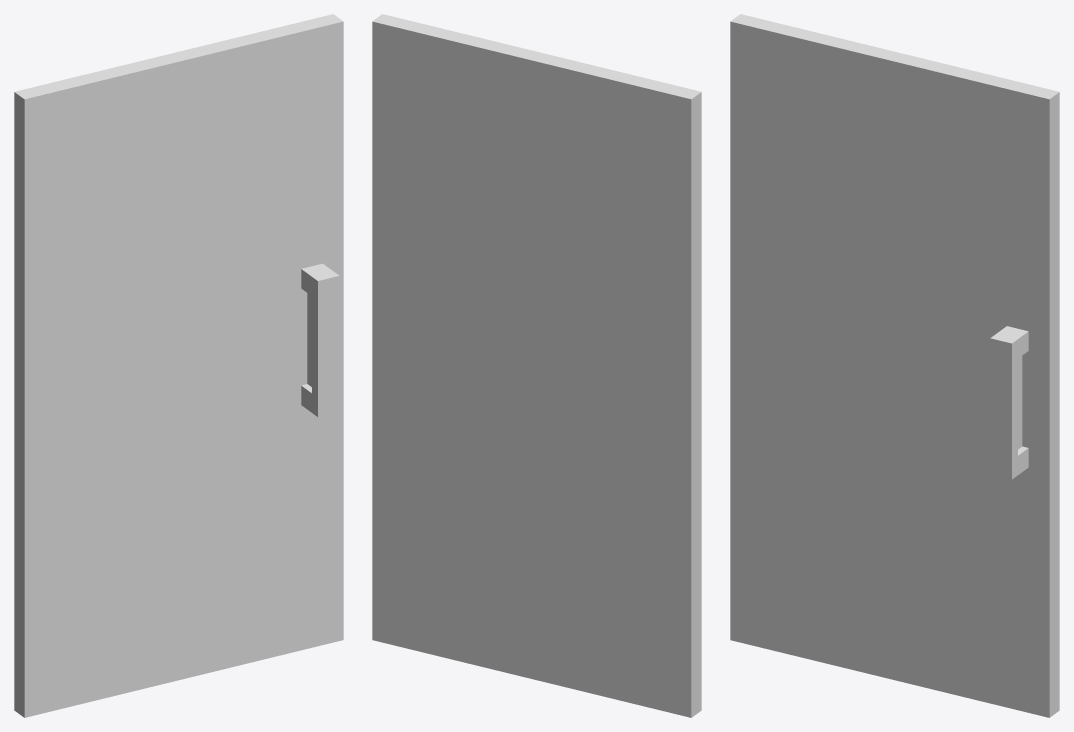
The model's file is Itr_Shelf1_Door_Left_01.FBX.
3 renders of one model, left to right at view 1: azimuth 30°, elevation 25°; view 2: azimuth 150°, elevation 25°; view 3: azimuth 330°, elevation 25°, orthographic.
Visible parts, largest first — view 1: Itr_Shelf1_Door_Left_01; view 2: Itr_Shelf1_Door_Left_01; view 3: Itr_Shelf1_Door_Left_01.
Boxes of the visible parts, bbox=[...] form: Itr_Shelf1_Door_Left_01: bbox=[14, 14, 343, 717]; Itr_Shelf1_Door_Left_01: bbox=[372, 14, 701, 717]; Itr_Shelf1_Door_Left_01: bbox=[730, 14, 1059, 717].
Size of the model in its own units: 22.1 by 40.92 by 3.23.
